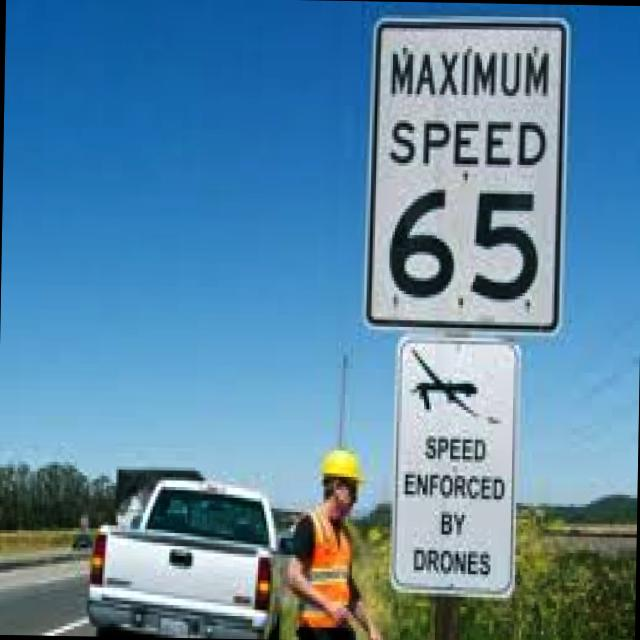Speed Limit Signs: (360, 9, 570, 341)
